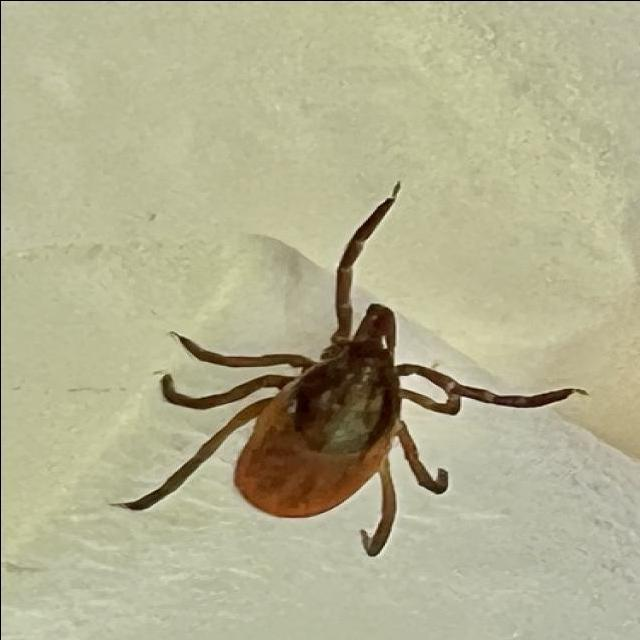Ixodes Ricinus-F: (111, 183, 585, 554)
